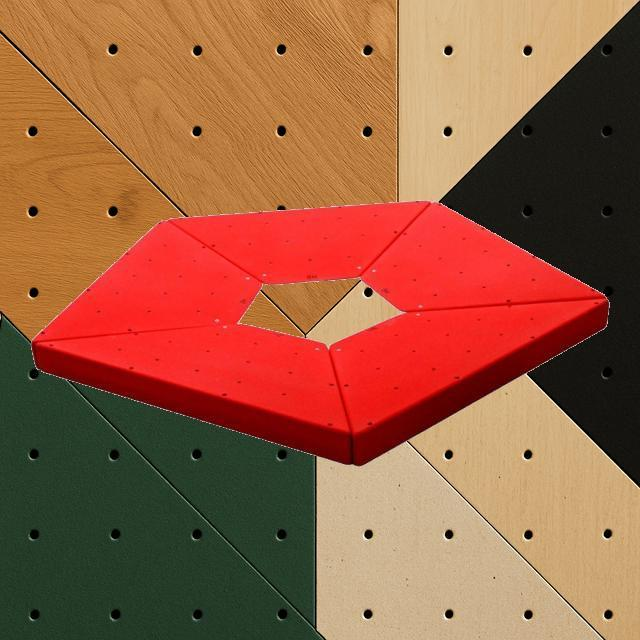Volume: (328, 294, 608, 466), (35, 322, 353, 466), (30, 219, 262, 369), (359, 200, 606, 312), (167, 198, 431, 286)
